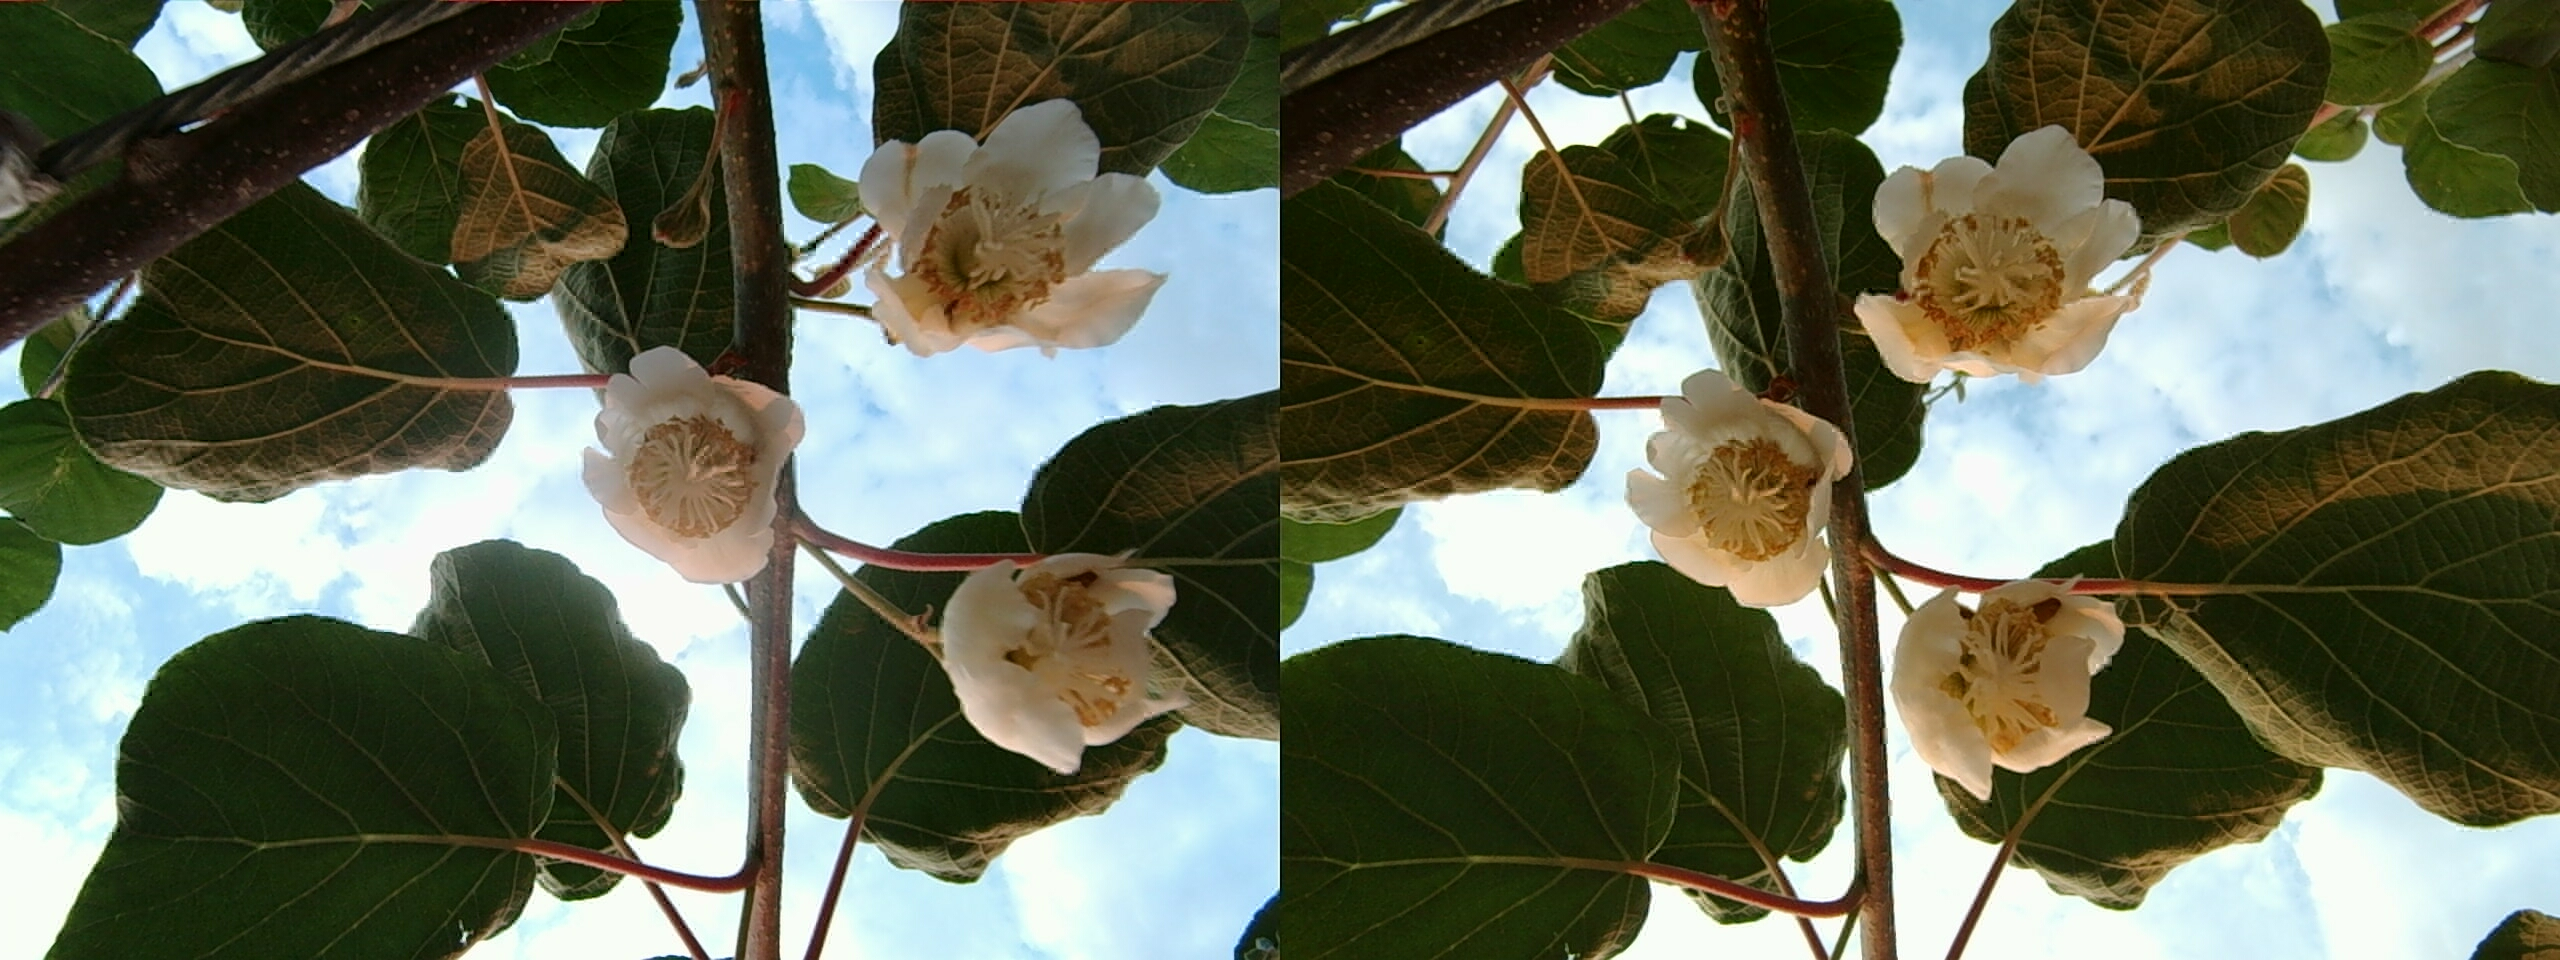flower: (854, 106, 1135, 361), (1869, 129, 2127, 390), (571, 343, 797, 581), (1624, 362, 1842, 606), (950, 539, 1171, 764), (1891, 567, 2114, 784)
